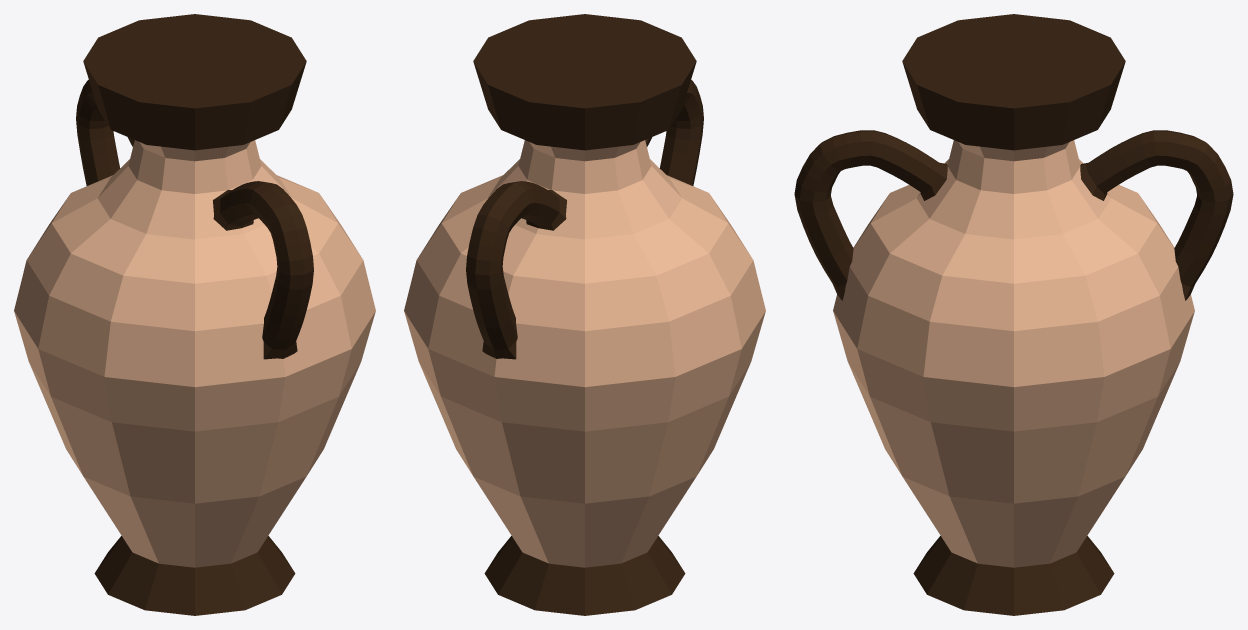
File: Amphore.fbx
3 views of the same model, side by side, from view 1: azimuth 30°, elevation 25°; view 2: azimuth 150°, elevation 25°; view 3: azimuth 270°, elevation 25° (orthographic).
Parts seen in each view (by area): view 1: Cylinder; view 2: Cylinder; view 3: Cylinder.
Boxes of the visible parts, <box> form: Cylinder: <box>14,14,375,615</box>; Cylinder: <box>404,14,765,615</box>; Cylinder: <box>794,14,1233,615</box>.
Bounding box in the file's own units: 134 × 210 × 163.
